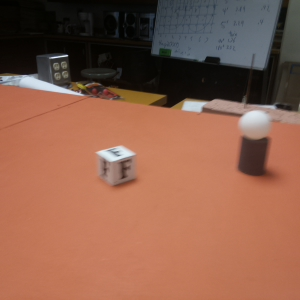blockF: (95, 144, 137, 186)
obstacle: (236, 109, 273, 179)
